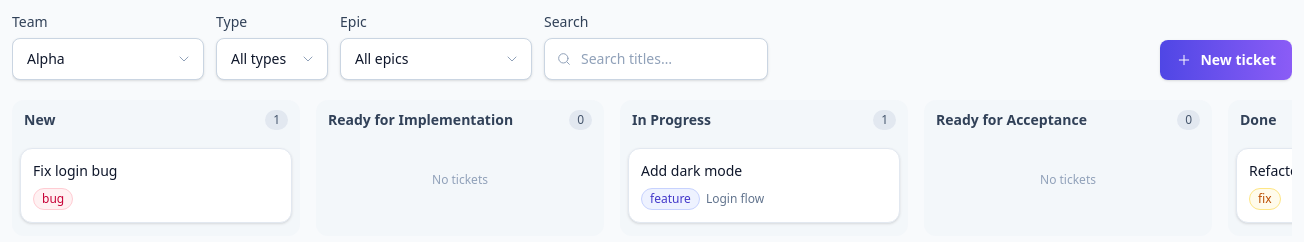
title search filters case-insensitively
The width and height of the screenshot is (1304, 242).
Expected: the text "Fix login bug" is shown, [33,161,117,180]
Type "dark" into the search field labelled "Search" at (656, 59), box [544,38,768,80]
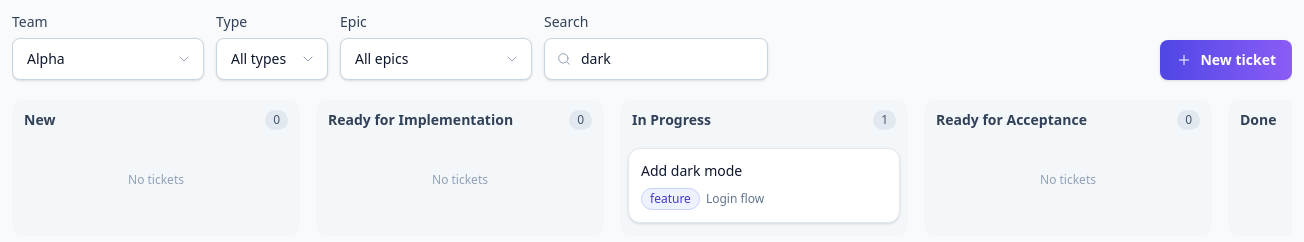
Expected: the text "Add dark mode" is shown, [641,161,742,180]
Result: the button "Fix login bug" is gone
